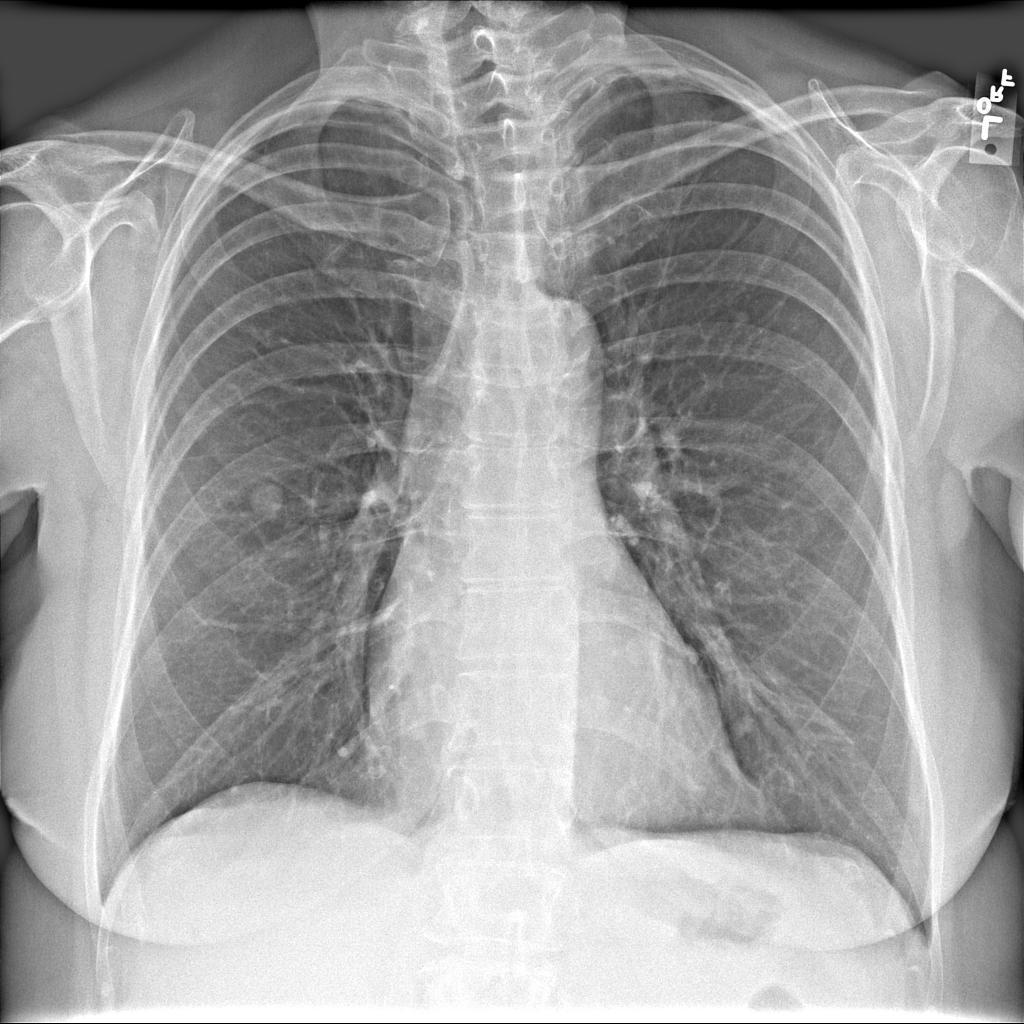Nodule: (249, 481, 291, 524)
